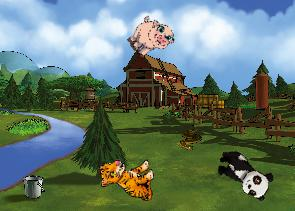panda: (210, 145, 277, 203)
pig: (122, 10, 178, 66)
tiger: (98, 154, 157, 206)
